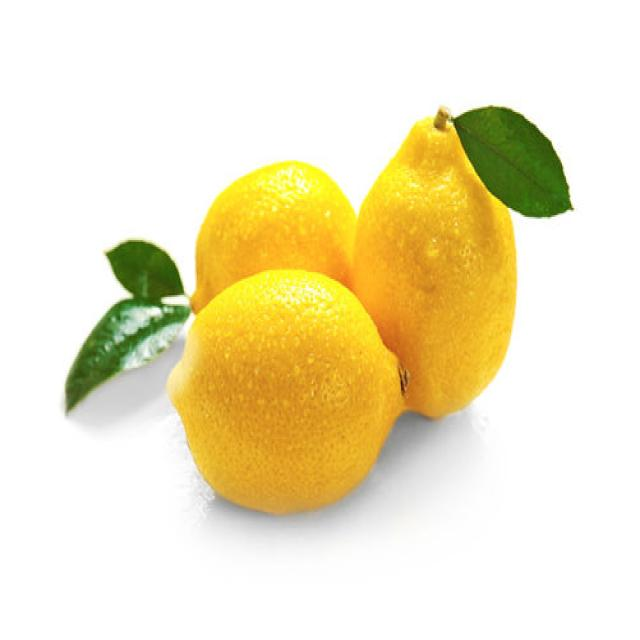Coriander Leaves: (62, 236, 192, 414)
Lemon: (165, 266, 406, 514), (352, 105, 518, 419), (189, 158, 356, 315)
